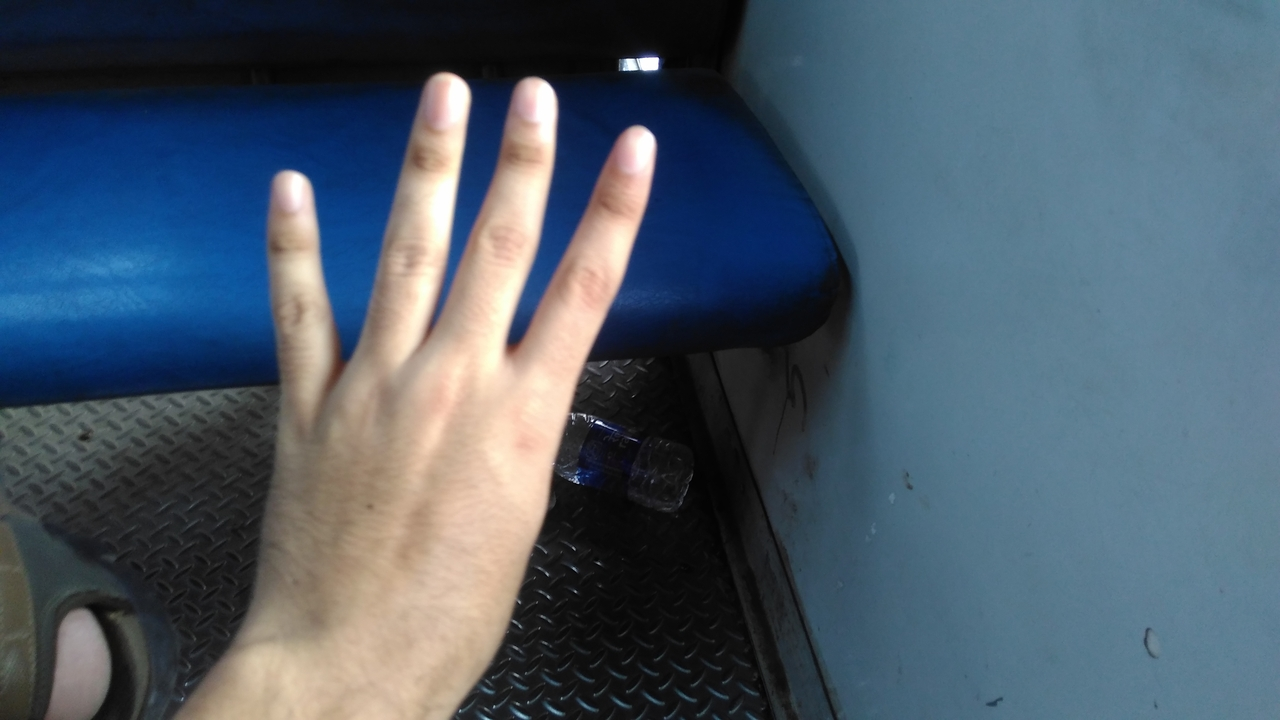fingertip: (594, 114, 664, 180), (256, 156, 318, 220), (408, 62, 474, 122), (496, 70, 564, 128)
